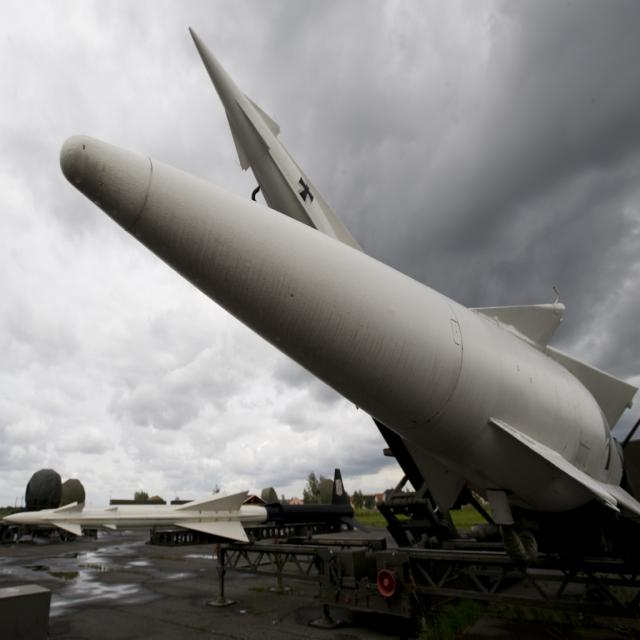rocket: (60, 18, 631, 542)
